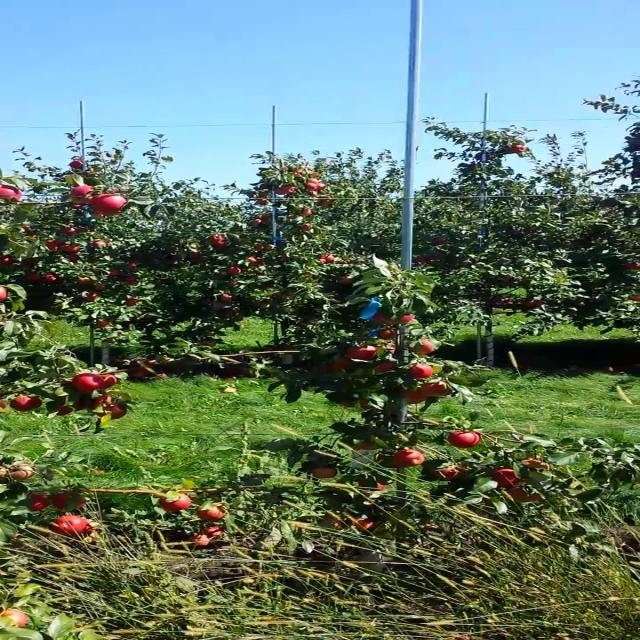apple: (87, 396, 127, 418), (31, 611, 70, 631), (51, 491, 89, 511), (445, 428, 481, 448), (92, 193, 126, 213), (70, 373, 104, 393), (54, 514, 86, 535), (68, 184, 102, 203), (198, 502, 233, 520), (503, 486, 538, 504), (394, 449, 428, 467), (489, 468, 519, 488), (428, 463, 460, 481), (404, 338, 439, 354), (9, 396, 43, 412), (419, 380, 449, 398), (162, 493, 191, 511), (350, 345, 379, 361), (65, 396, 97, 410), (0, 184, 22, 204), (519, 458, 555, 470), (358, 478, 388, 492), (316, 514, 342, 530), (309, 466, 342, 478), (406, 364, 434, 378), (348, 516, 372, 532), (400, 389, 427, 403), (27, 494, 48, 512), (316, 361, 341, 375), (10, 466, 34, 480), (72, 524, 93, 540), (55, 399, 73, 417), (327, 357, 352, 369), (373, 362, 398, 374), (376, 327, 396, 341), (395, 316, 415, 328), (340, 398, 370, 406), (355, 443, 382, 451), (105, 373, 118, 389), (371, 316, 394, 324), (0, 286, 10, 304), (386, 344, 394, 356), (0, 468, 8, 478)
